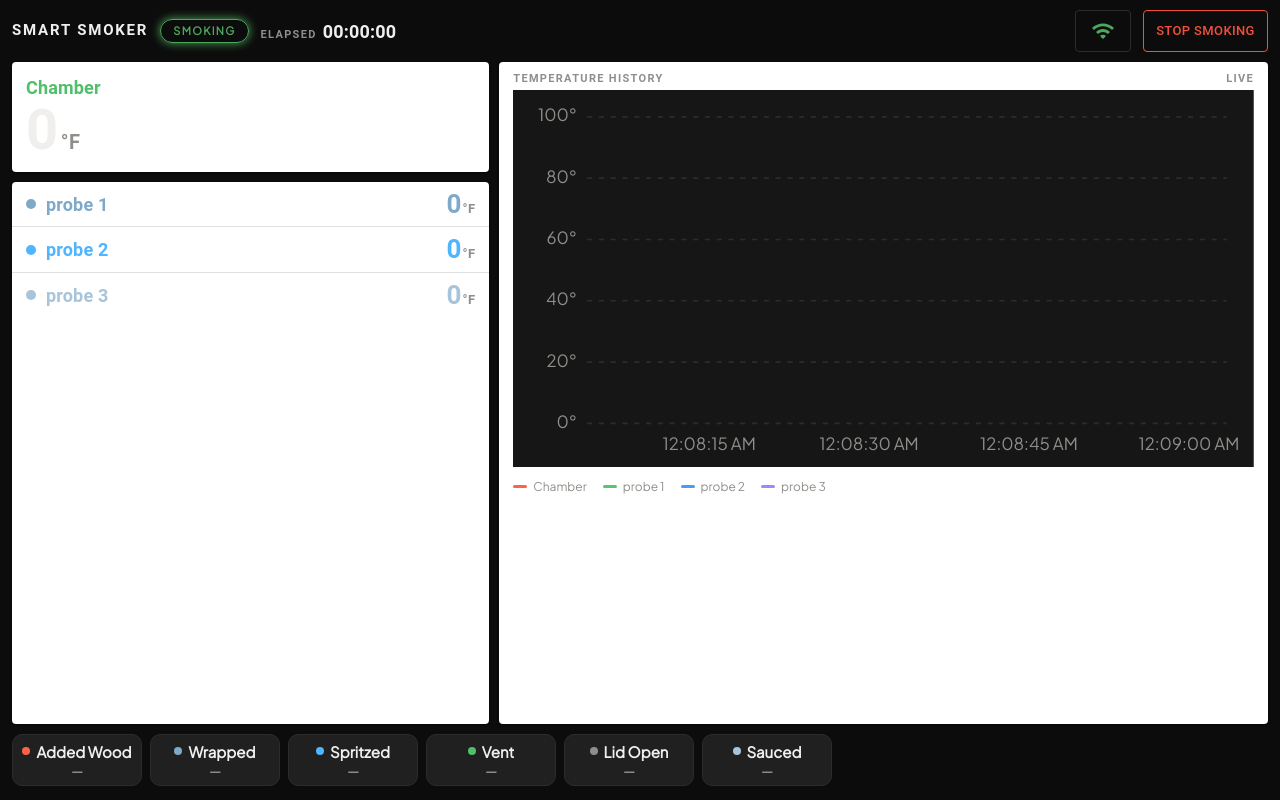
Home — starting a cook over an auto-stopped one › never asks on the way out of a cook
This screenshot has width=1280, height=800.
Click the button "Stop Smoking": [1206, 31] box x1=1143 y1=10 x2=1268 y2=52
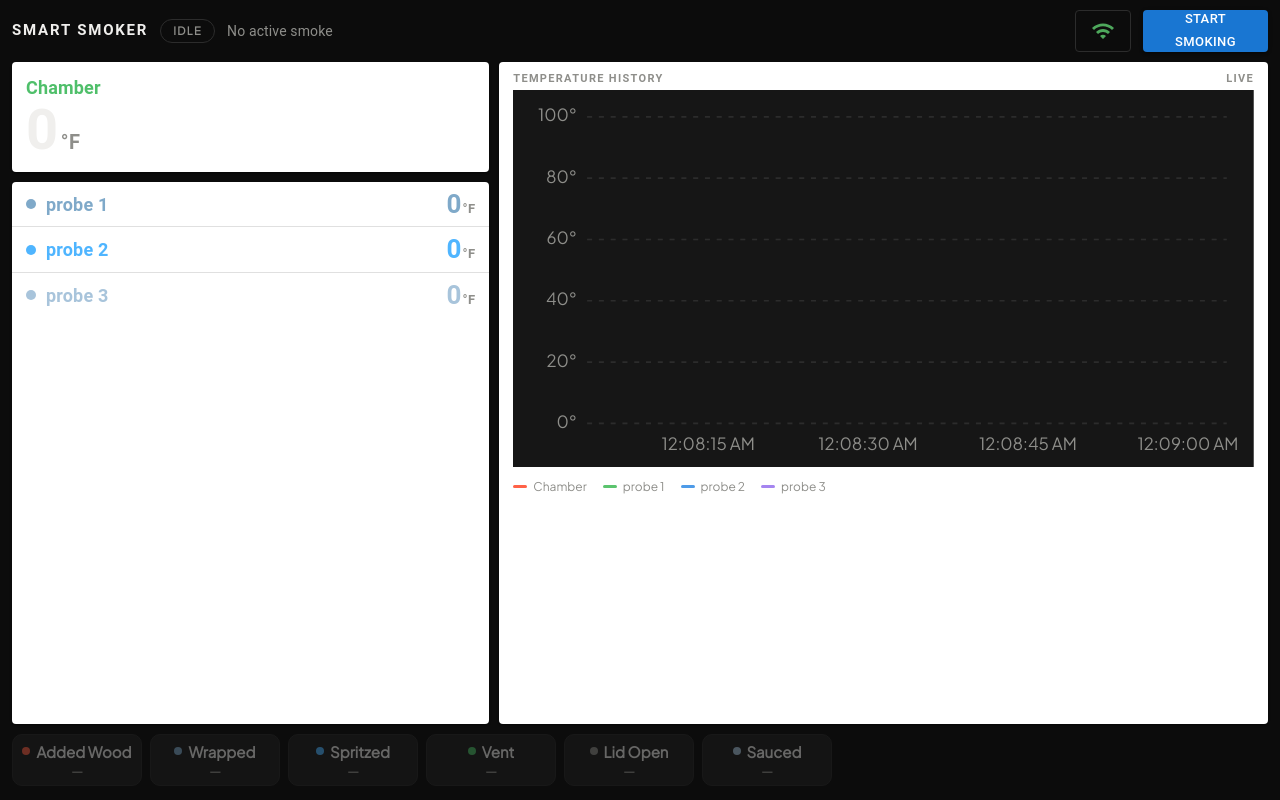
Result: the button "Start Smoking" is shown at x1=1143 y1=10 x2=1268 y2=52
